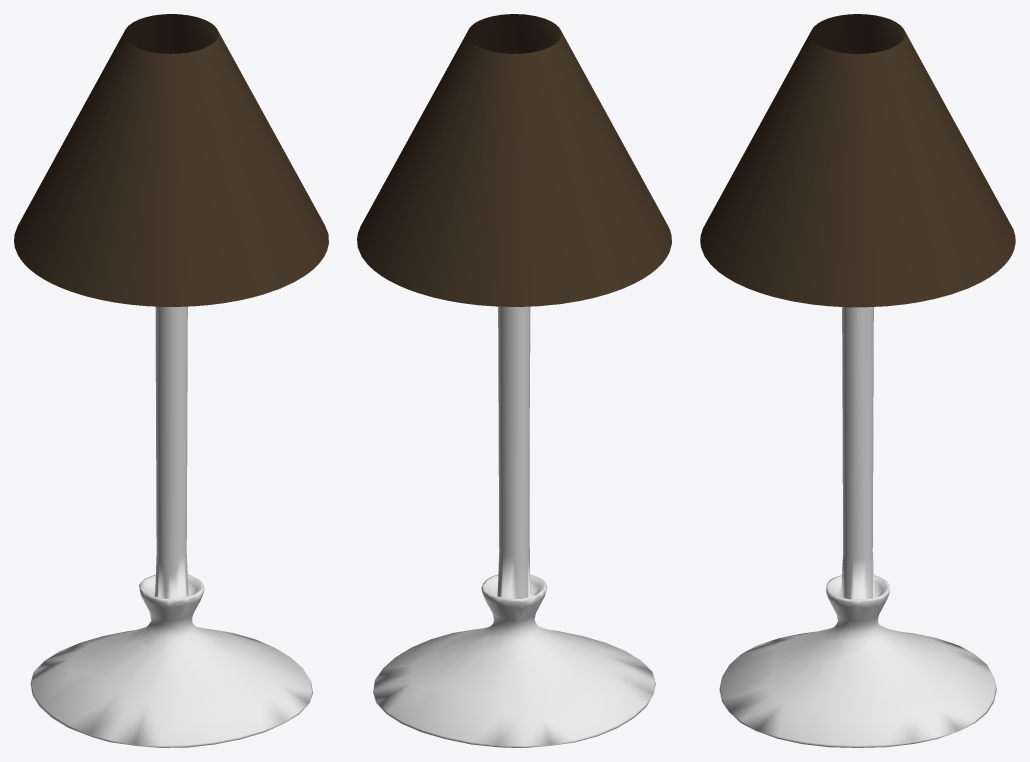
Rendered from Lamp.fbx.
3 renders of one model, left to right at view 1: azimuth 30°, elevation 25°; view 2: azimuth 150°, elevation 25°; view 3: azimuth 270°, elevation 25°, orthographic.
Visible parts, largest first — view 1: Cube.059; view 2: Cube.059; view 3: Cube.059.
Boxes of the visible parts, left/top/right/bottom form: Cube.059: left=14, top=14, right=328, bottom=747; Cube.059: left=357, top=14, right=671, bottom=747; Cube.059: left=700, top=14, right=1015, bottom=747.
Bounding box in the file's own units: 52.9 × 122 × 52.9.
